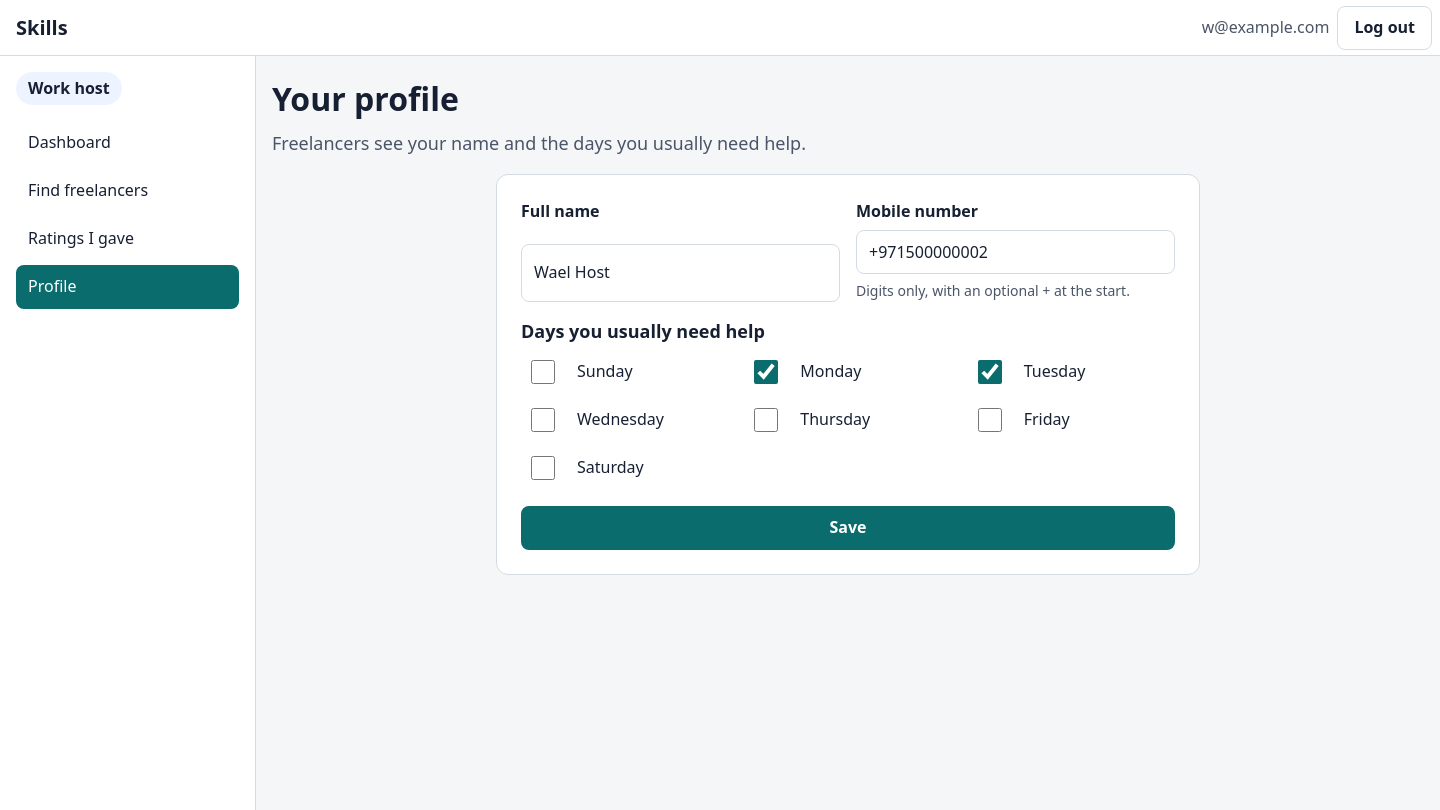
Test: profile › shows the saved days and saves changes
expect the checkbox labelled "Monday" is checked: met, box [754,360,778,384]
expect the checkbox labelled "Wednesday" is not checked: met, box [531,408,555,432]
Click the checkbox labelled "Sunday": {"x": 543, "y": 372} [531,360,555,384]
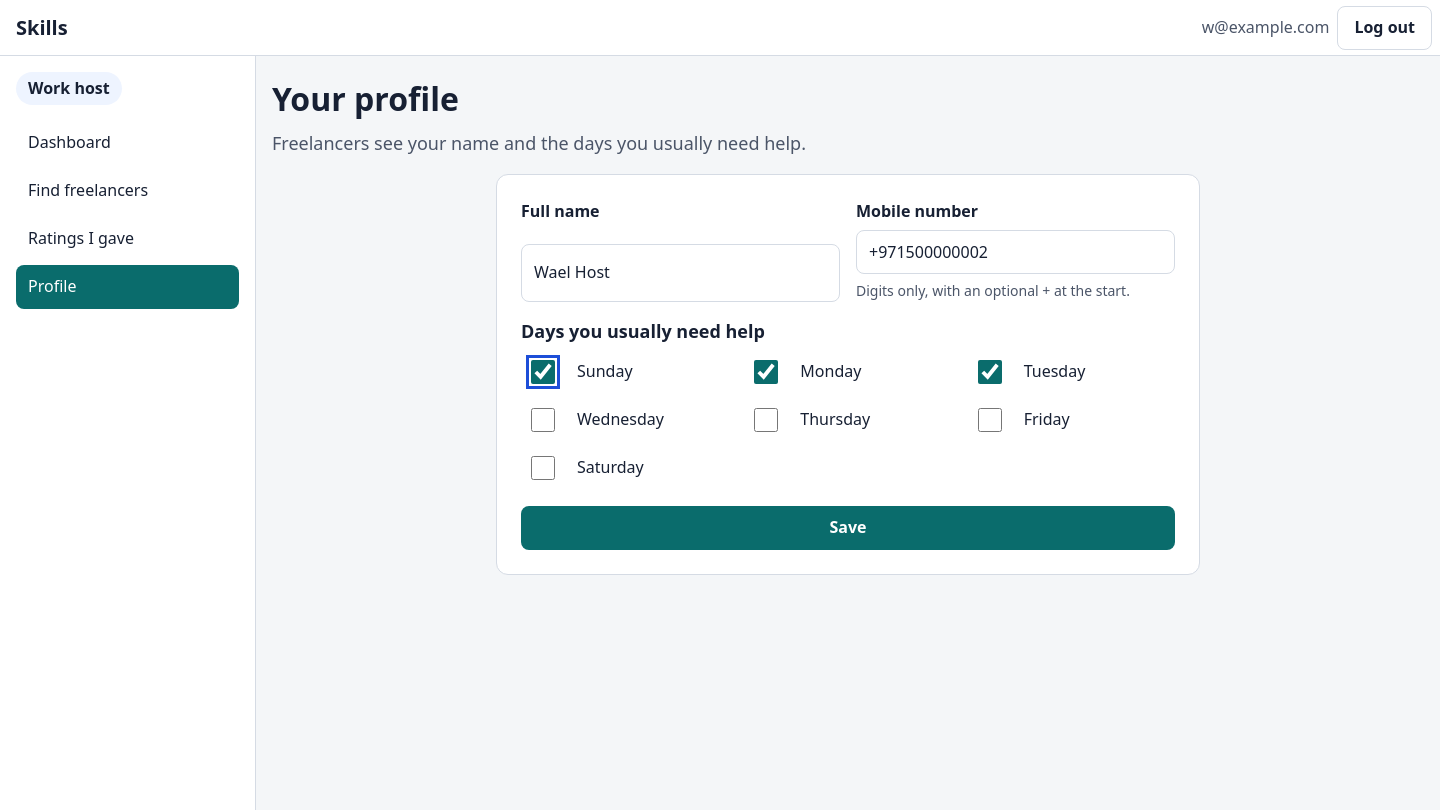
Click the button "Save": {"x": 848, "y": 528} [521,506,1175,550]
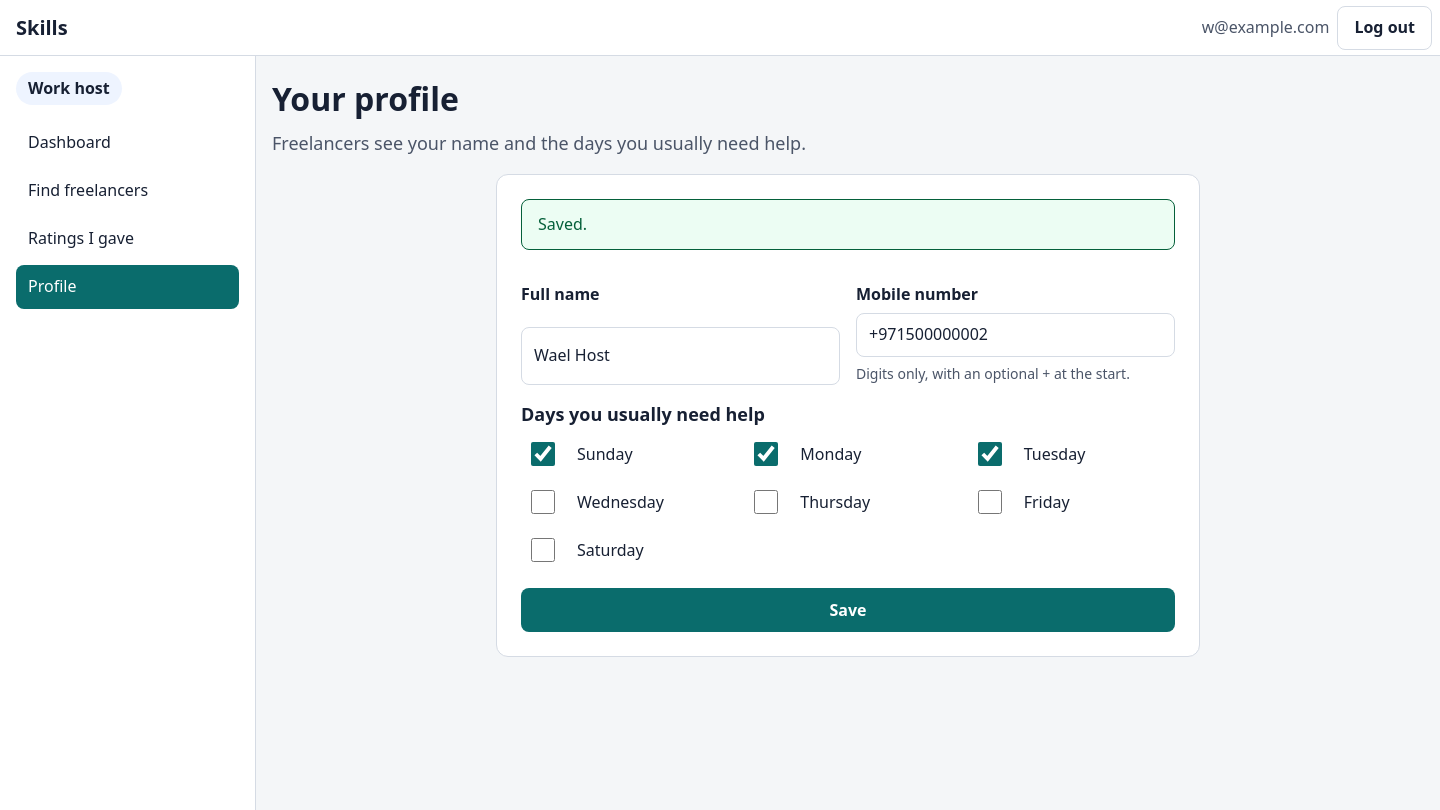
expect the message reads "Saved.": met, box [538,213,587,235]
